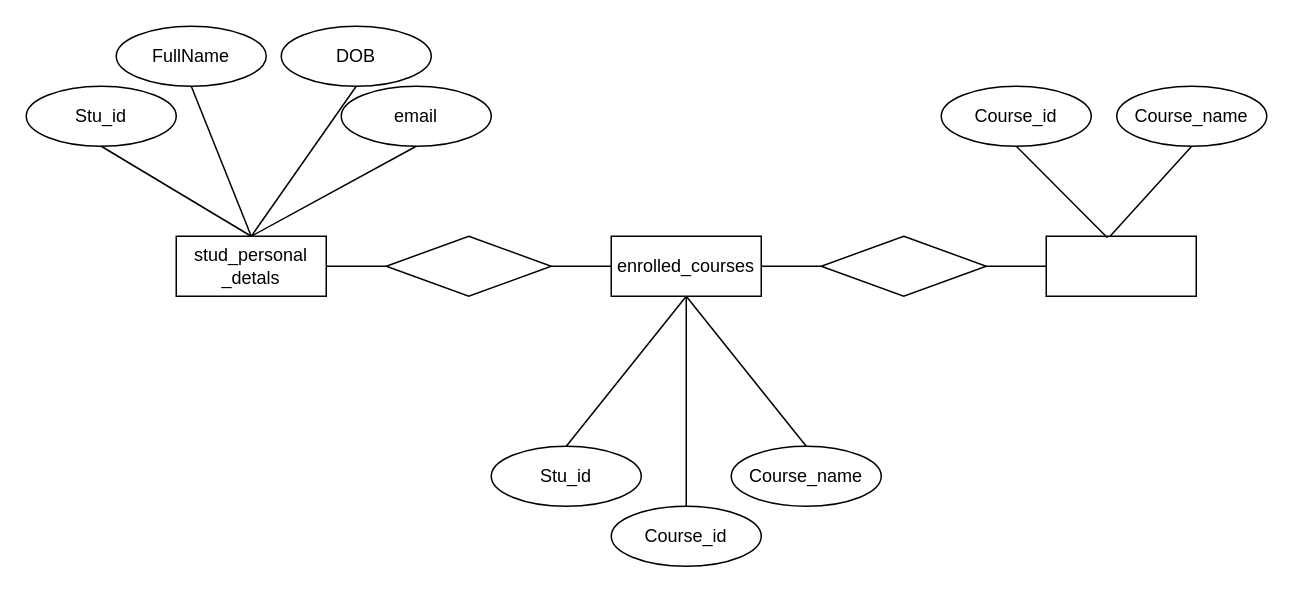
This 1293x593 diagram has some shape labels left out. The shapes that lost their labels are listed below. From the top down, each one's centre as x and y in pixels, then its label:
At [468,265]: "Enroll".
At [903,265]: "Offer".
At [1120,265]: "course_details".
